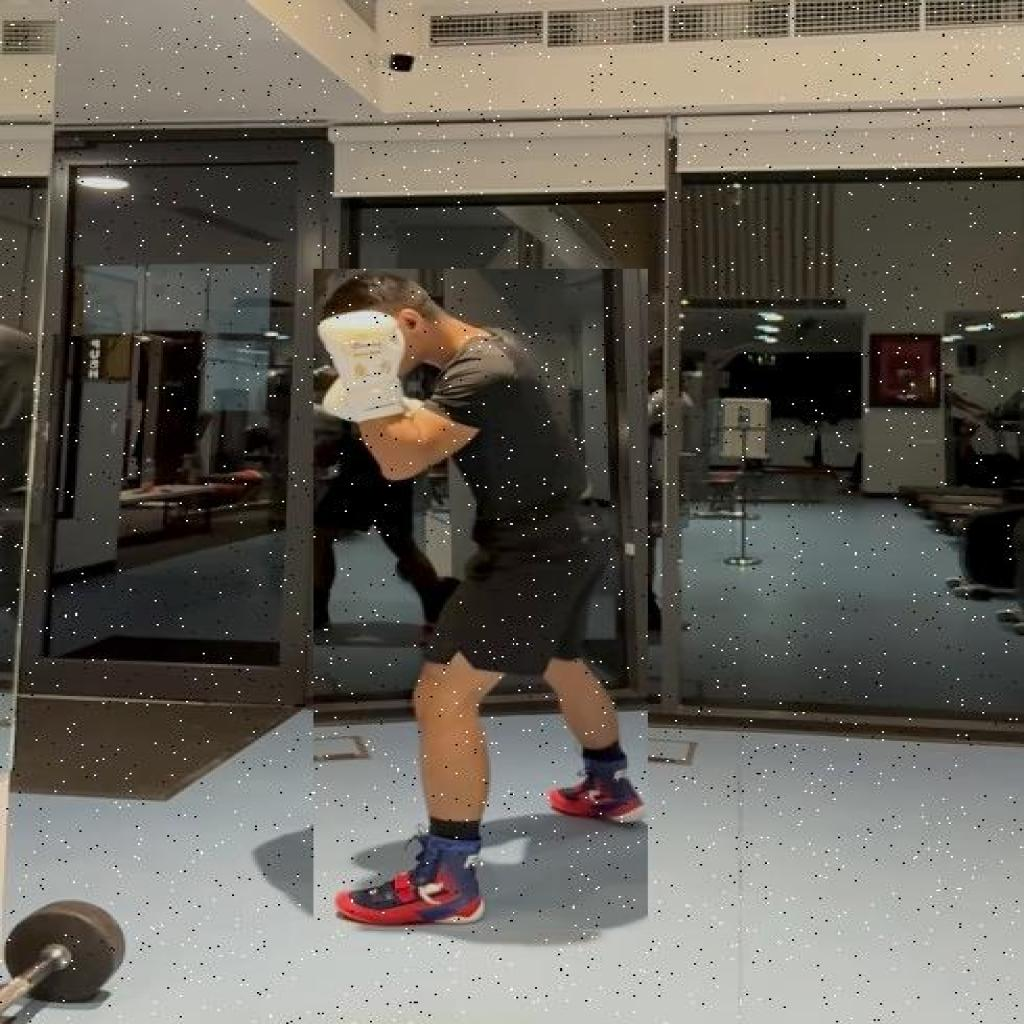no punch: (313, 269, 649, 932)
